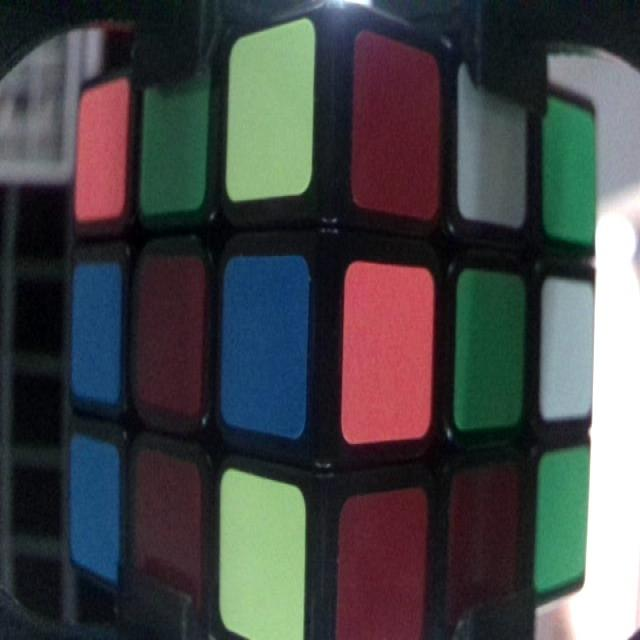b: (228, 262, 304, 436), (69, 434, 116, 576), (72, 266, 121, 401)
g: (459, 276, 523, 424), (544, 100, 601, 246), (146, 67, 202, 206), (540, 456, 583, 594)
o: (345, 269, 430, 440), (75, 88, 123, 226)
r: (357, 32, 438, 218), (341, 495, 427, 640), (134, 450, 198, 619), (451, 470, 519, 628), (139, 263, 201, 417)
w: (457, 58, 528, 224), (542, 282, 593, 416)
y: (223, 473, 300, 638), (230, 40, 308, 198)
